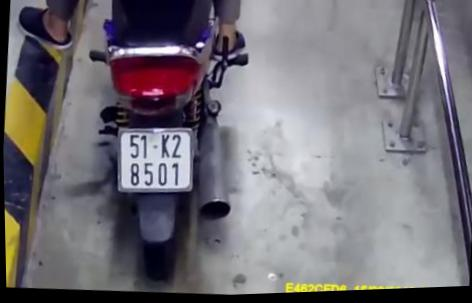LP: (113, 124, 198, 200)
